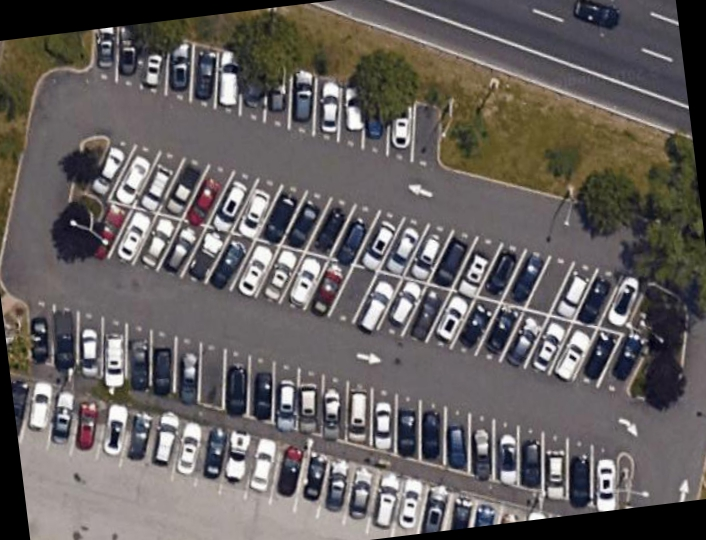parkingspot: (67, 132, 655, 400), (21, 293, 620, 512), (10, 372, 561, 538), (89, 25, 443, 174)
